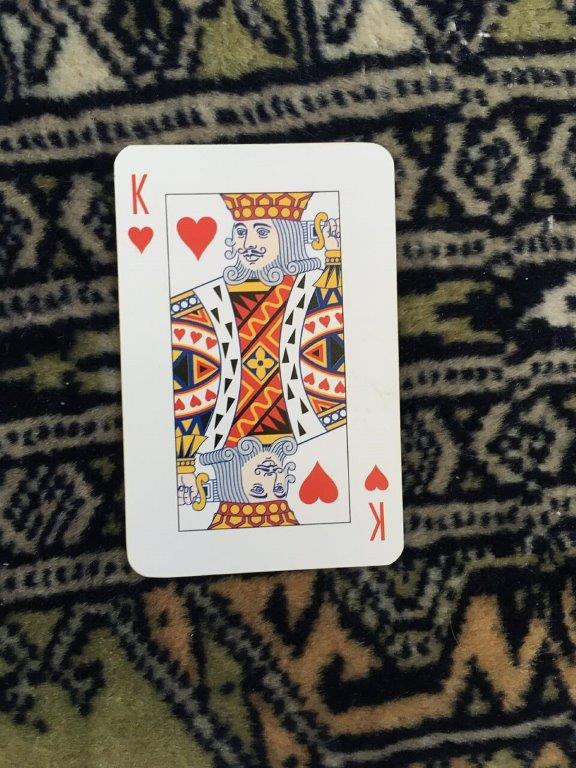KH: (109, 139, 407, 580)
